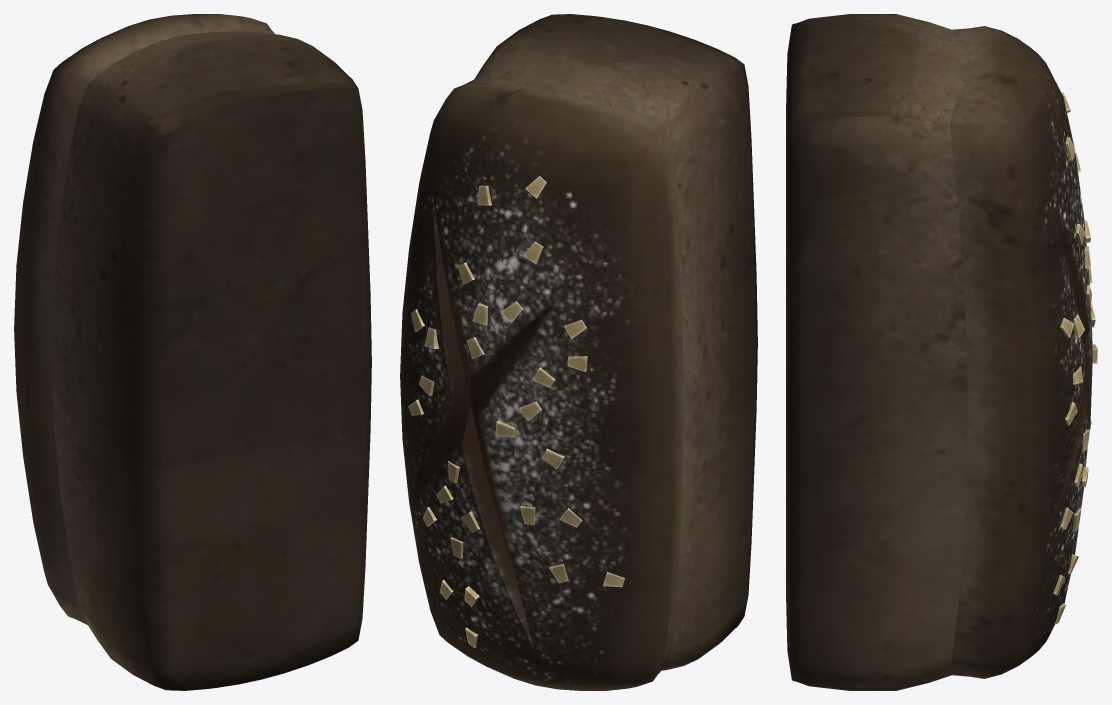
3 renders of one model, left to right at view 1: azimuth 30°, elevation 25°; view 2: azimuth 150°, elevation 25°; view 3: azimuth 270°, elevation 25°, orthographic.
Visible parts, largest first — view 1: body0_model0_lod0_mesh0; view 2: body0_model0_lod0_mesh0; view 3: body0_model0_lod0_mesh0.
Part boxes in pixels (bbox=[...]): body0_model0_lod0_mesh0: bbox=[14, 14, 371, 690]; body0_model0_lod0_mesh0: bbox=[400, 14, 757, 690]; body0_model0_lod0_mesh0: bbox=[786, 14, 1097, 690].
Bounding box in the file's own units: 7.09 × 15.82 × 7.27.
Materials: 1 (1 with a texture image).
